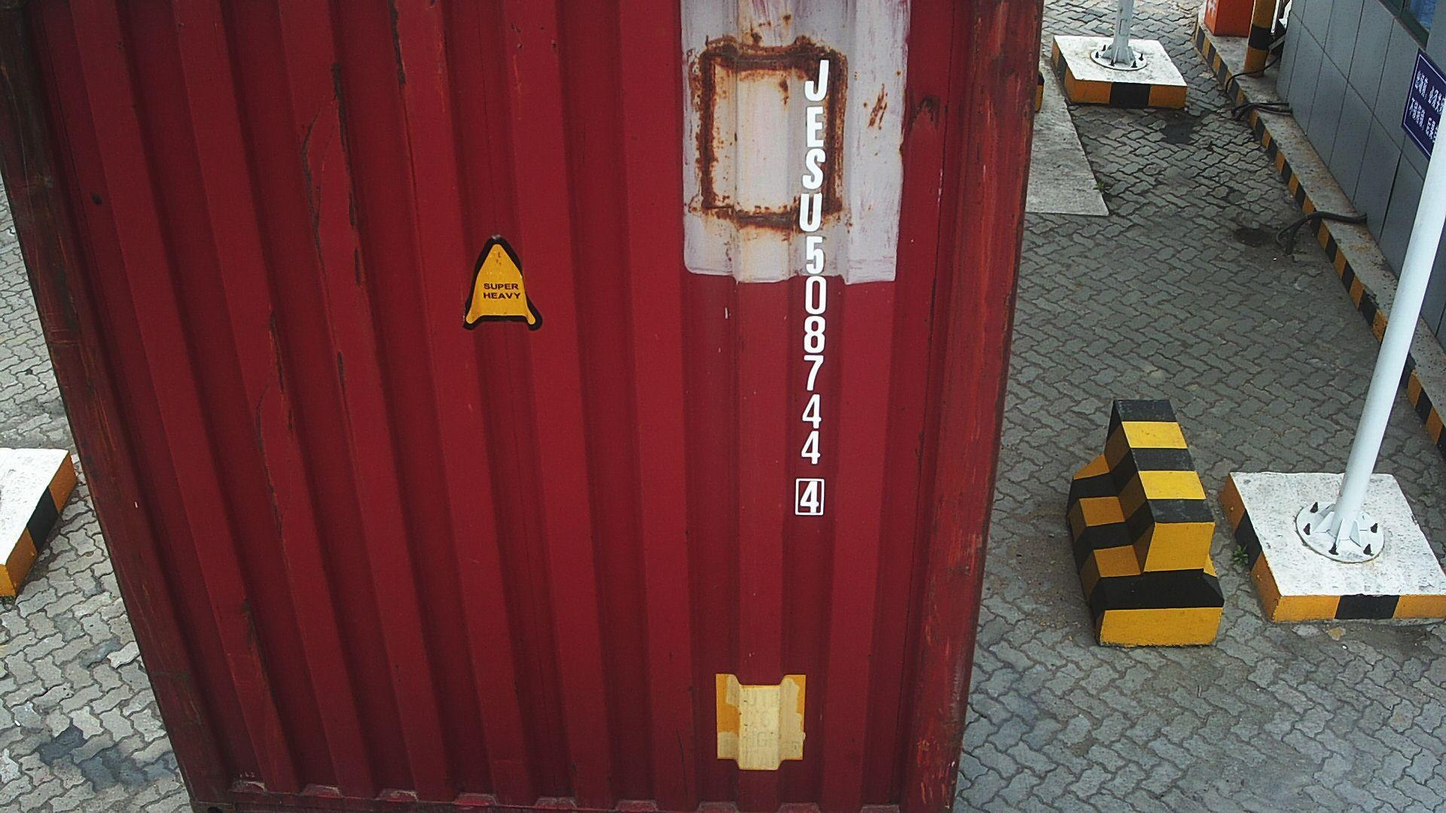container-numbers: (785, 40, 842, 526)
